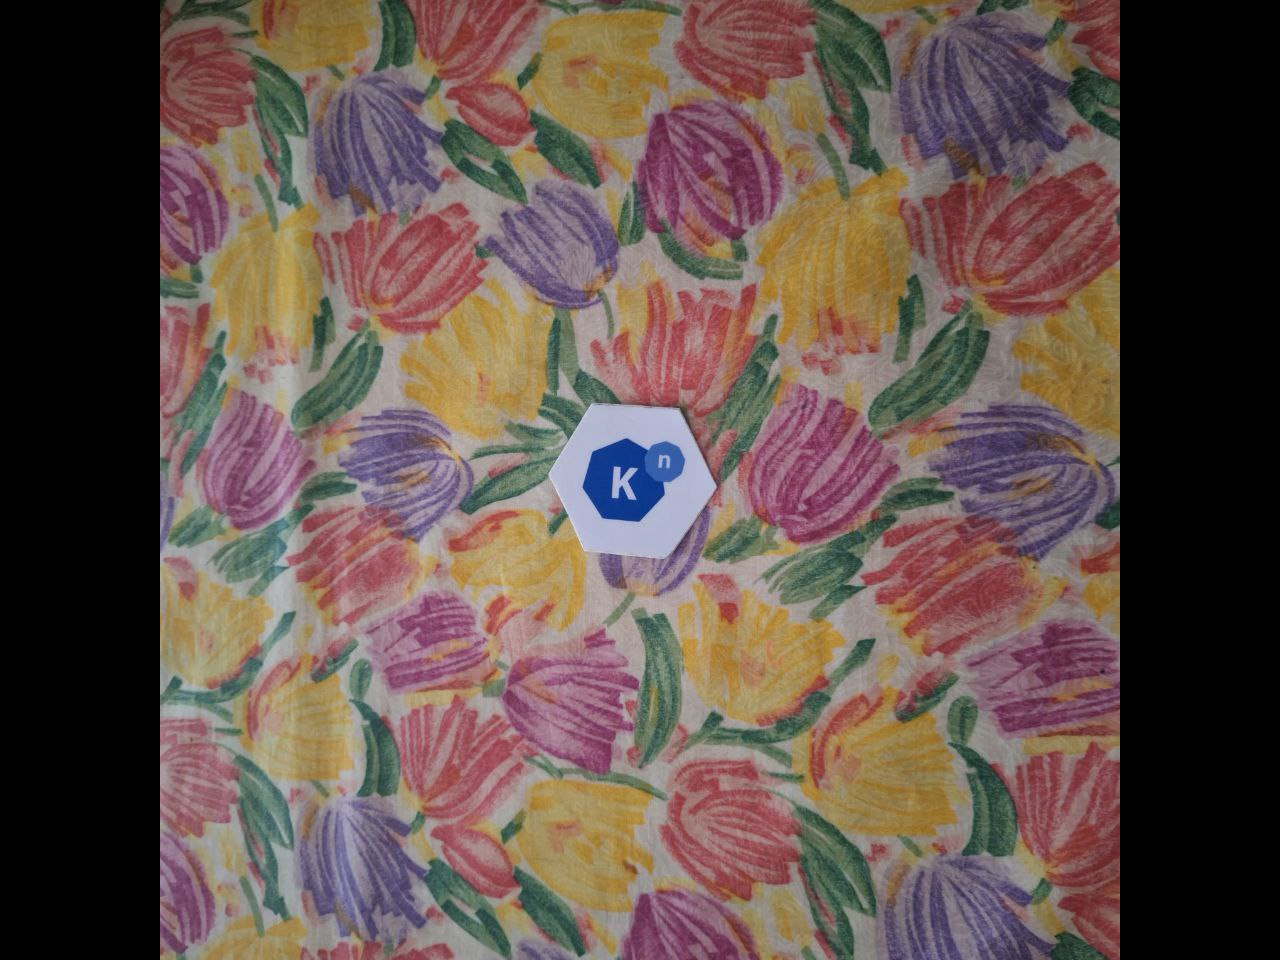knative: (579, 434, 684, 522)
